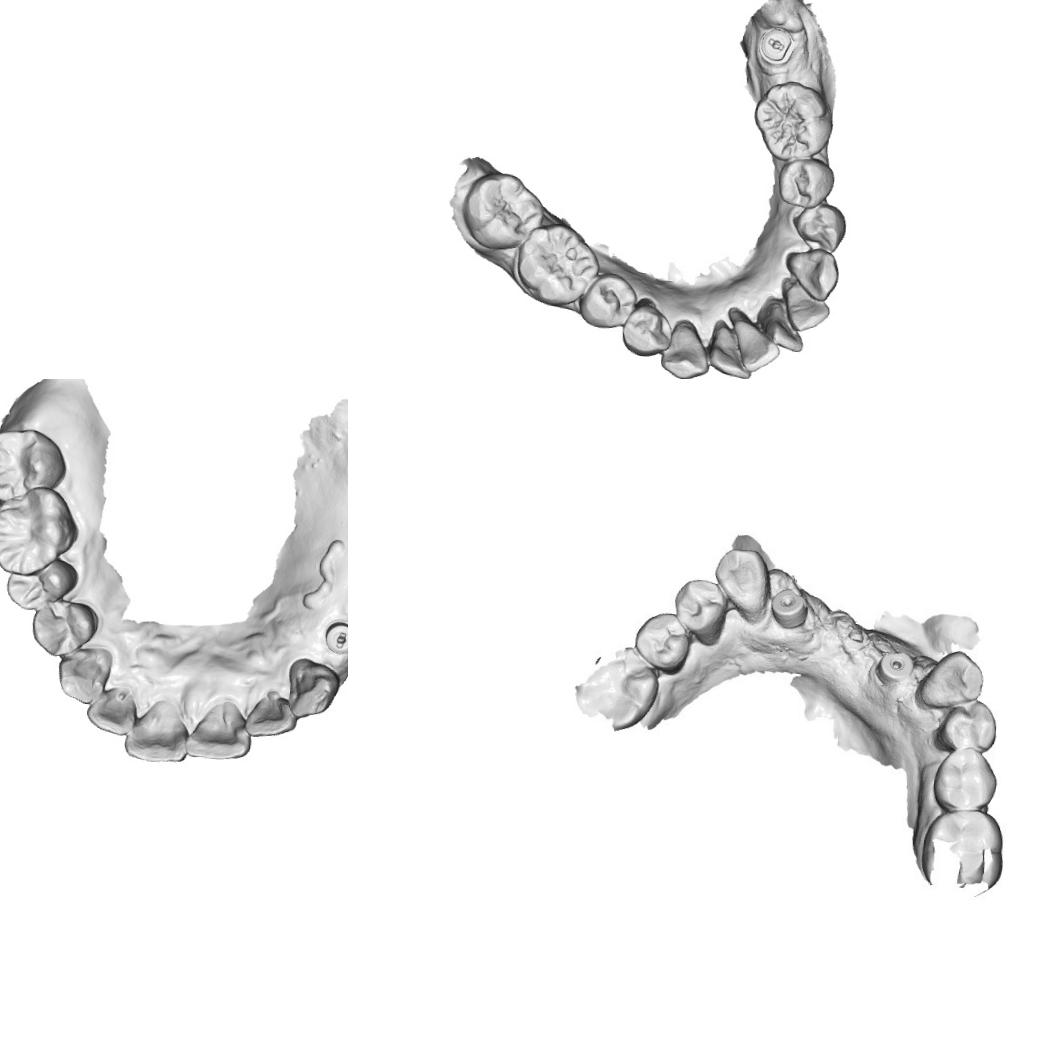canine: (712, 538, 768, 622), (914, 648, 989, 710), (282, 655, 344, 721), (54, 642, 114, 706), (778, 245, 842, 302), (657, 316, 712, 379)
implant: (768, 581, 814, 632), (876, 648, 911, 686)
implant_minus: (756, 22, 798, 71), (320, 617, 348, 656)
incisor: (122, 695, 194, 764), (184, 698, 254, 762), (728, 313, 782, 376), (241, 685, 300, 740), (84, 683, 138, 736), (759, 304, 811, 358), (703, 324, 754, 379), (782, 286, 832, 336)
molar: (917, 805, 1012, 896), (510, 217, 600, 311), (748, 76, 836, 165), (0, 482, 79, 579), (574, 644, 654, 736), (462, 169, 546, 253), (0, 424, 69, 505)
premolar: (927, 749, 1004, 814), (2, 554, 80, 614), (28, 596, 100, 660), (674, 576, 729, 650), (578, 269, 640, 332), (935, 699, 998, 756), (776, 152, 836, 210), (618, 296, 674, 358), (790, 200, 850, 254), (634, 612, 690, 669)
